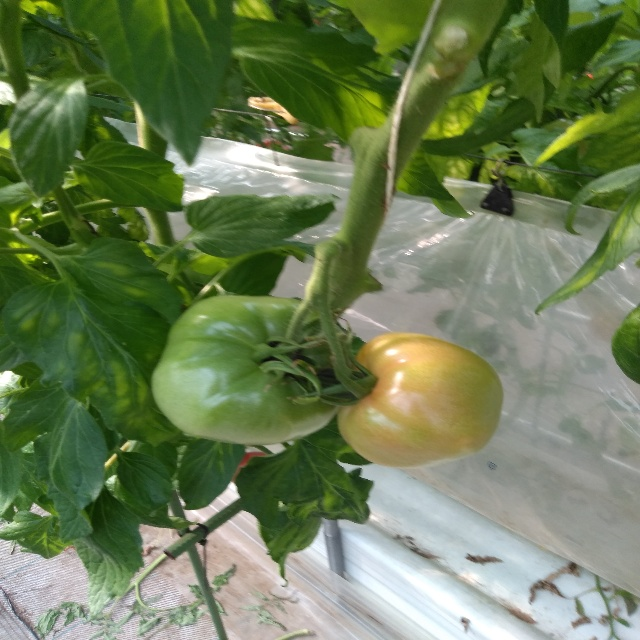b_green: (149, 295, 353, 445)
b_half_ripened: (337, 332, 504, 467)
